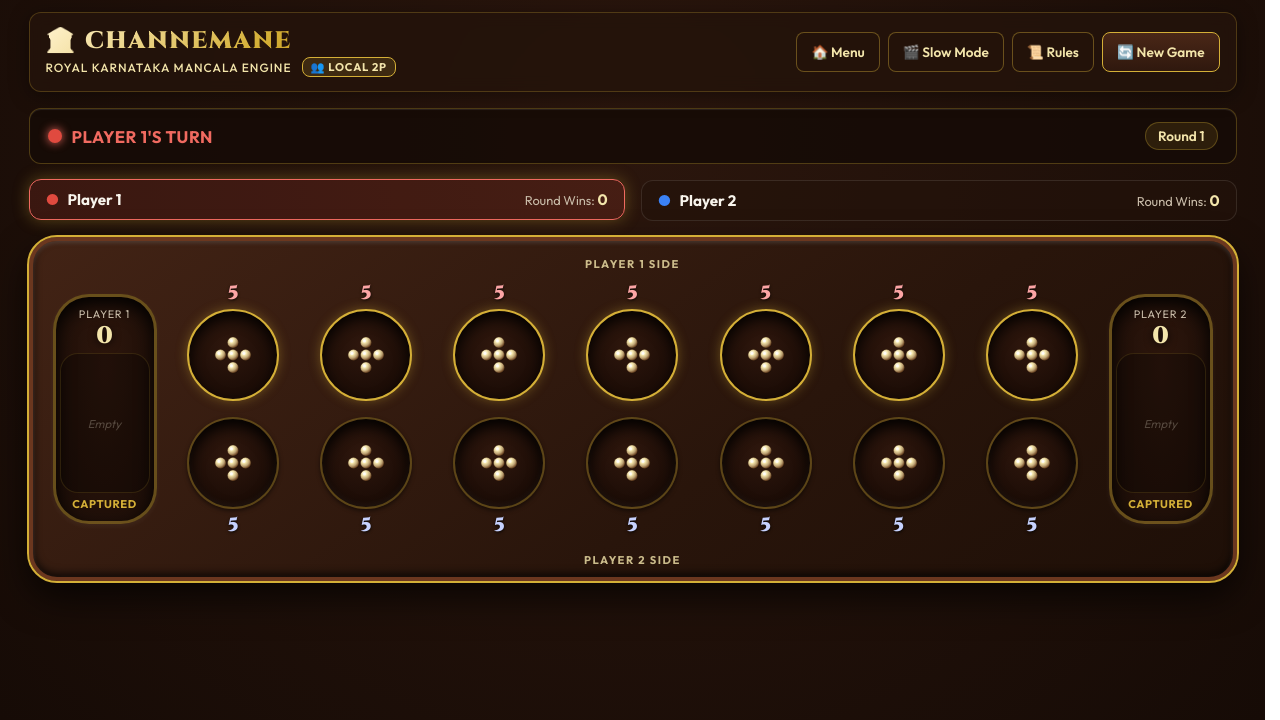
Test: Interactive Gameplay UI: Sowing, Capture Confirmation, and Gestures › Section 7: Status Messages and Contextual Guidance › displays player turn at start and continuation message when paused
Expected: the element with test id "turn-indicator" reads "PLAYER 1'S TURN", x1=72 y1=126 x2=213 y2=146
Start sowing
Click the button with test id "pit-0": (233, 355) x1=187 y1=309 x2=279 y2=401
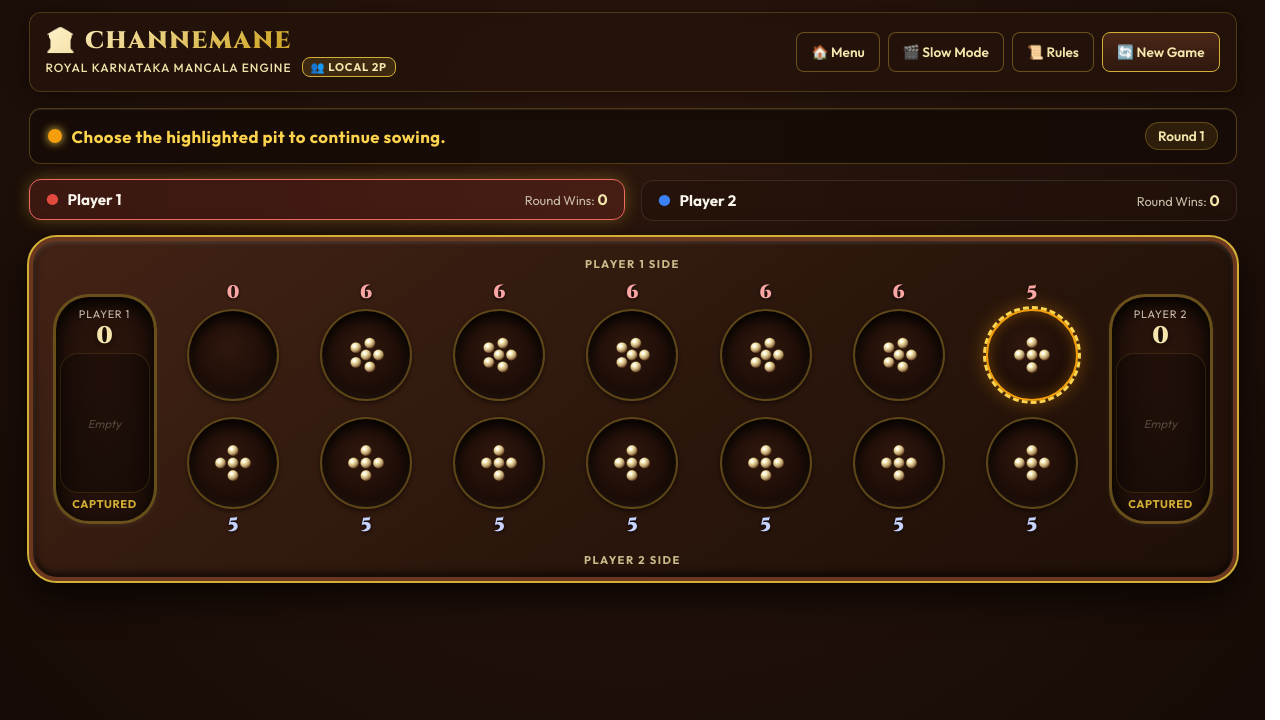
Expected: the element with test id "turn-indicator" reads "Choose the highlighted pit to continue sowing.", x1=72 y1=126 x2=446 y2=146
